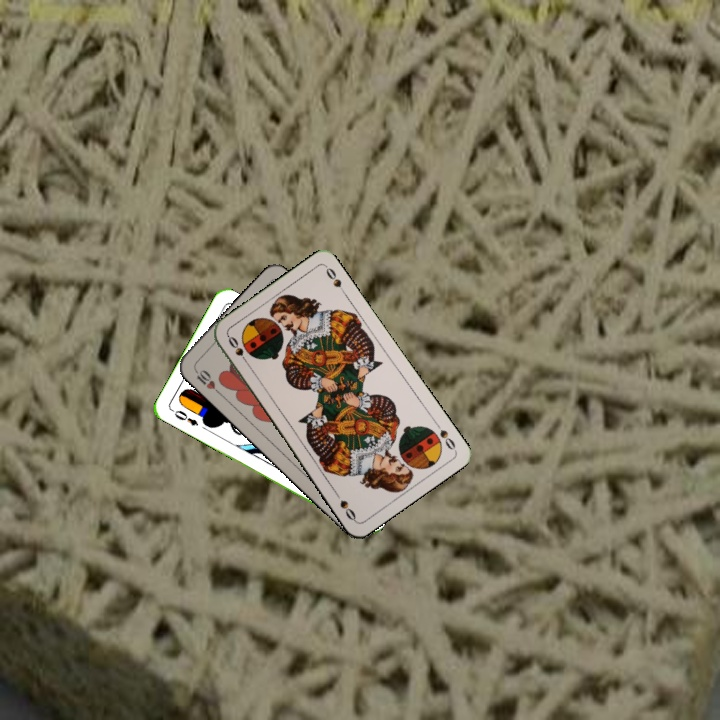EO: (167, 405, 201, 428)
H10: (190, 365, 223, 396)
SO: (223, 332, 252, 368), (430, 417, 458, 453)
